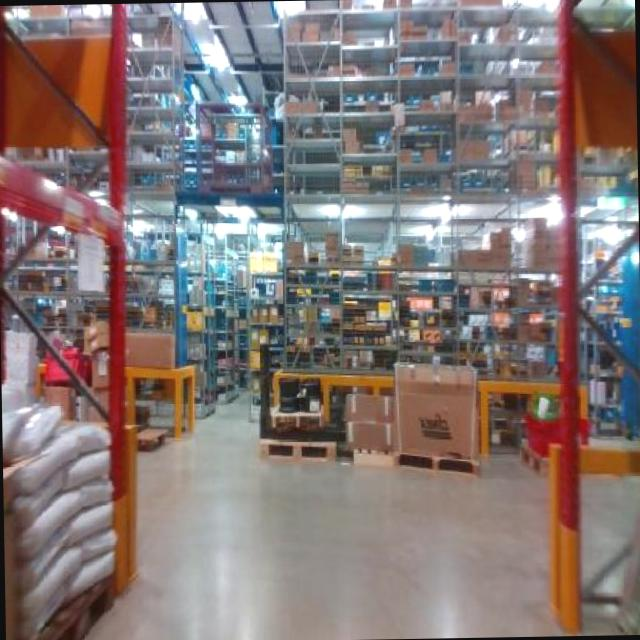pallet: (386, 444, 486, 482), (256, 430, 341, 472)
